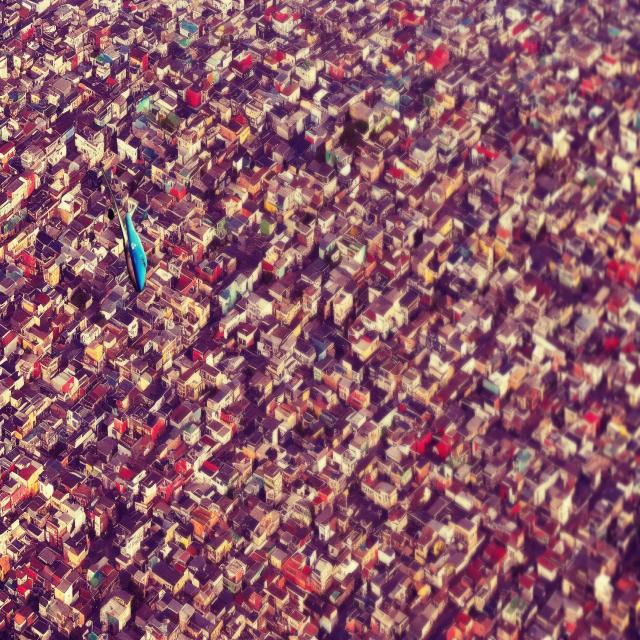airplane: (98, 161, 148, 292)
